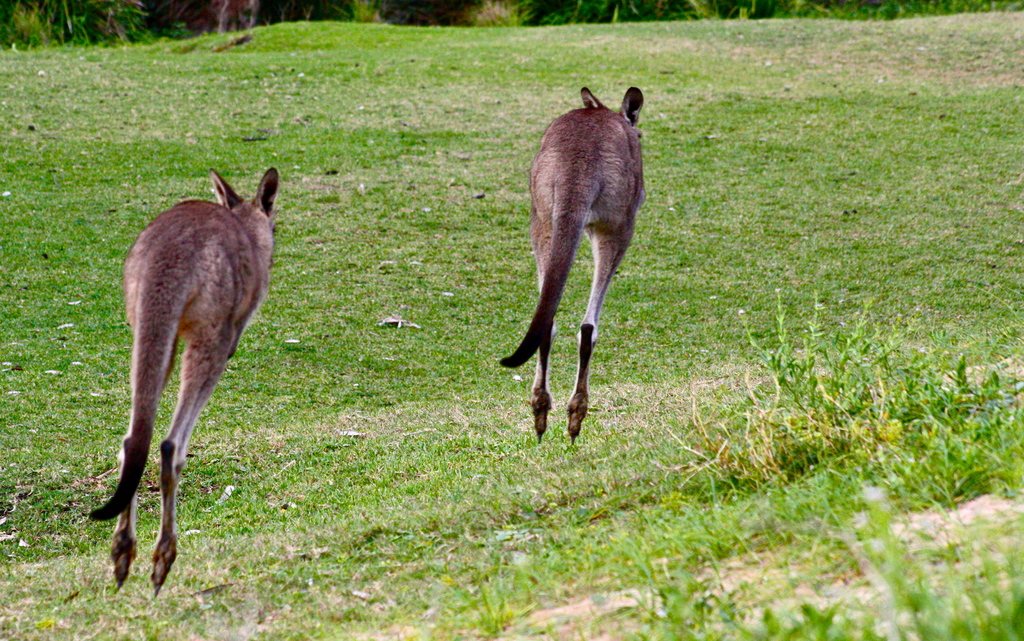kangaroo: (87, 164, 286, 584), (501, 84, 643, 447)
